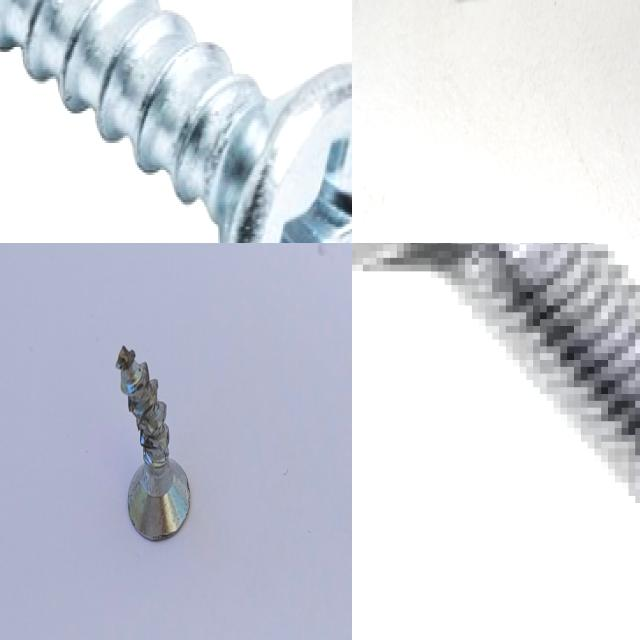Screw: (0, 0, 352, 243), (352, 243, 640, 514), (116, 345, 189, 540)
